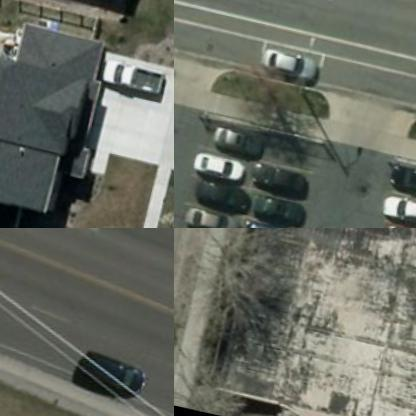car: (95, 52, 174, 102), (80, 349, 153, 391), (261, 42, 322, 84), (255, 163, 317, 203), (193, 184, 254, 216), (253, 196, 315, 227), (193, 150, 250, 182), (214, 125, 263, 157), (178, 206, 240, 227), (381, 193, 415, 227), (388, 157, 415, 199)
